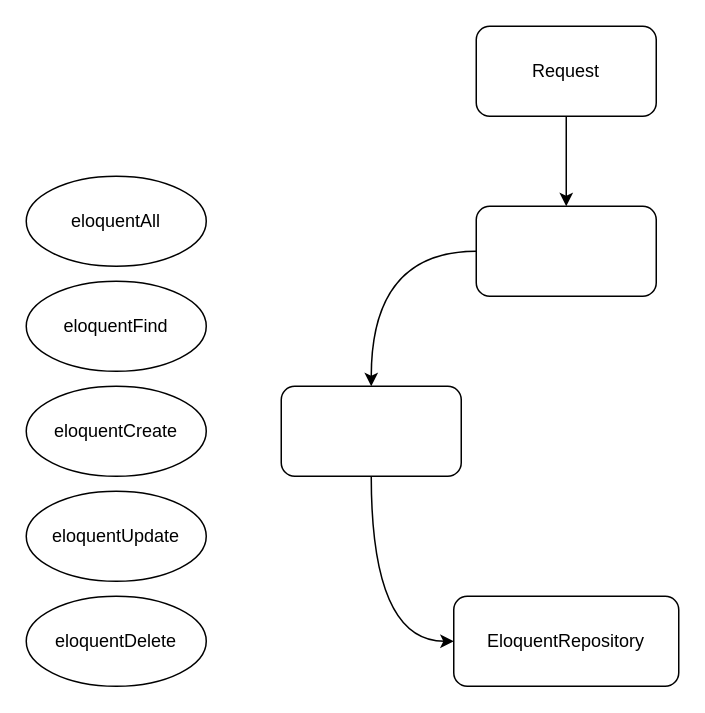
This 705x713 diagram has some shape labels left out. The shapes that lost their labels are listed below. From the top down, each one's centre as x and y in pixels, then its label:
At (x=565, y=250): "Controller".
At (x=370, y=430): "RepositoryInterface".
